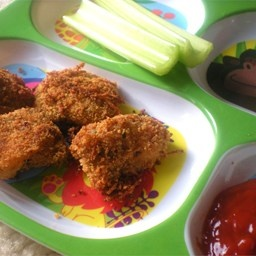background: (24, 32, 102, 102), (0, 24, 70, 80), (25, 0, 86, 30)
